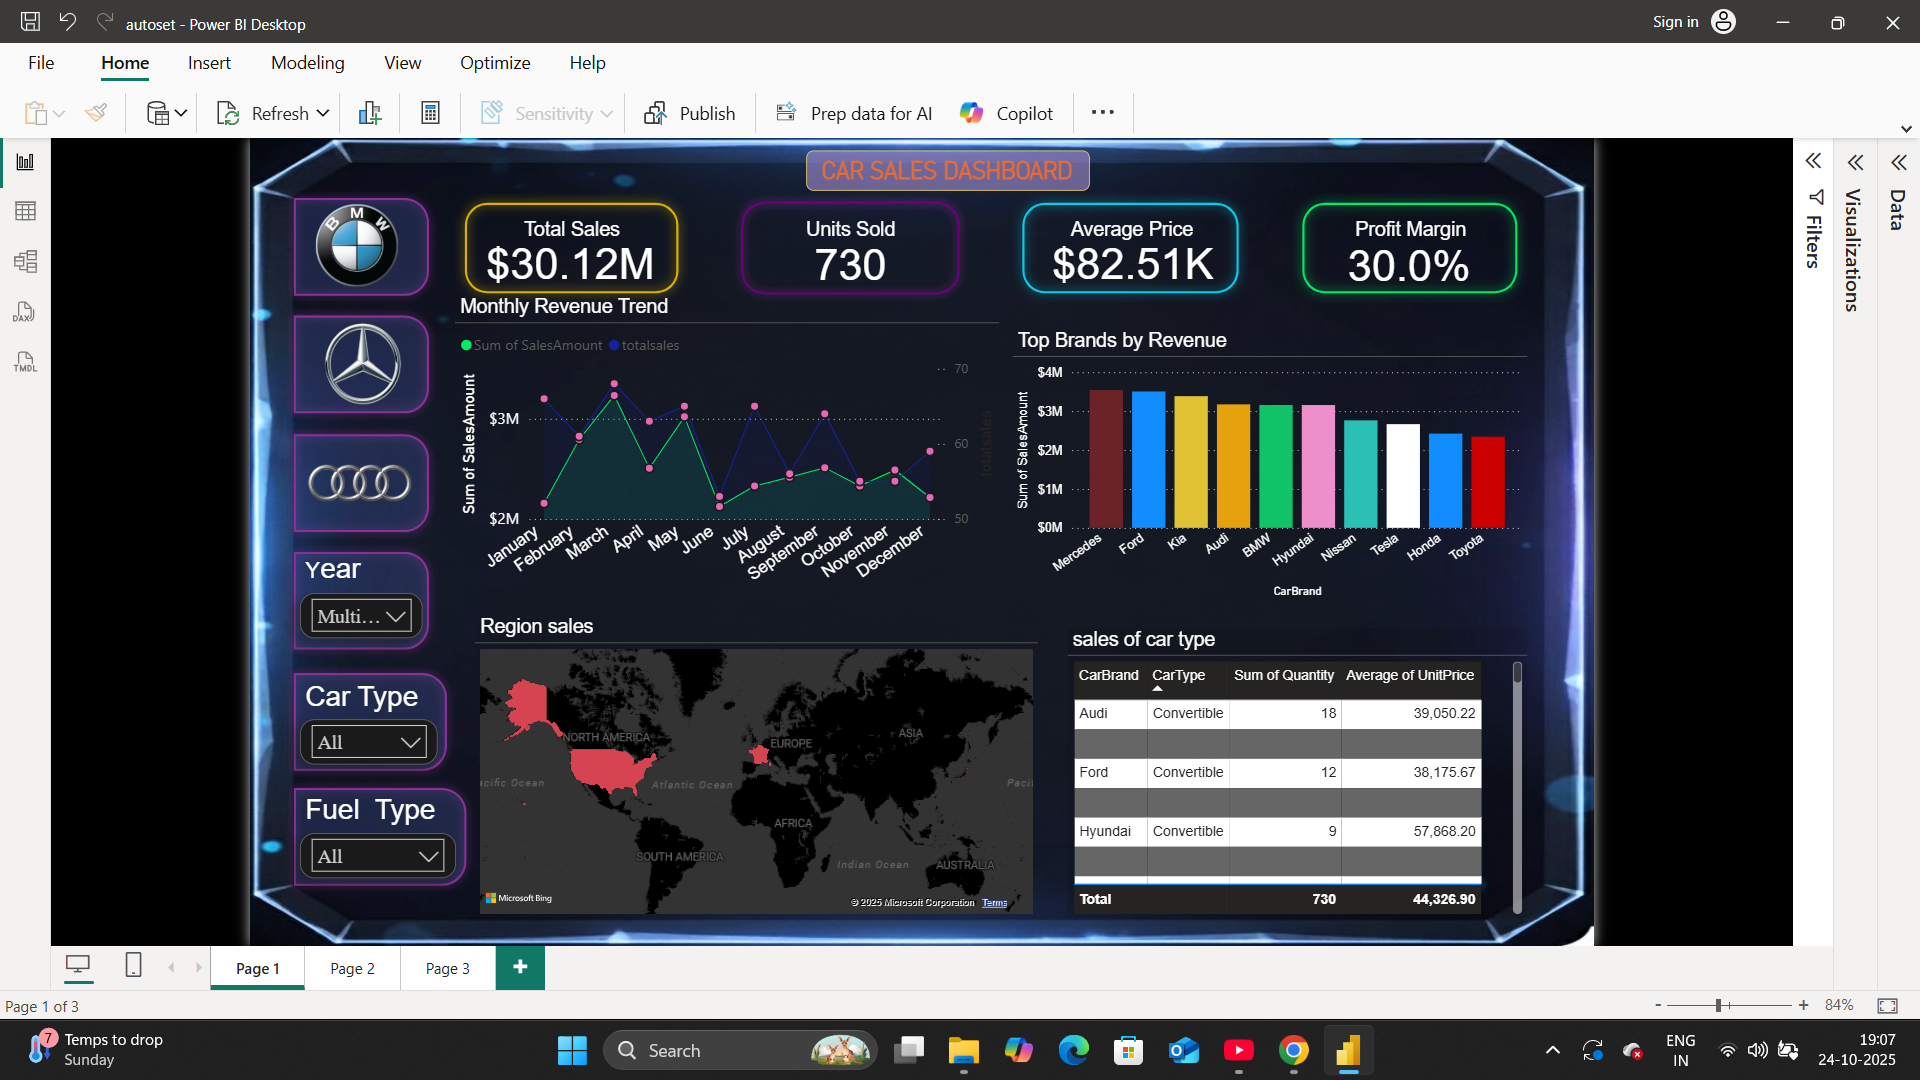

What the dashboard file says about the page in this screenshot:
{"tool":"powerbi","page":{"name":"Page 1","canvas":[1281,771],"ordinal":0},"visuals":[{"type":"shape","box":[32.9,611.4,181.4,110],"z":0},{"type":"actionButton","box":[459.6,52.5,225,105],"z":1000},{"type":"actionButton","box":[993.8,52.5,223.8,105],"z":2000},{"type":"actionButton","box":[195,52.5,222.5,105],"z":3000},{"type":"actionButton","box":[726.7,52.5,225,105],"z":4000},{"type":"textbox","box":[151.2,73.8,311.2,31.2],"z":5000},{"type":"textbox","box":[417.5,73.8,311.2,31.2],"z":6000},{"type":"textbox","box":[685,73.8,311.2,31.2],"z":7000},{"type":"textbox","box":[951.2,73.8,311.2,31.2],"z":8000},{"type":"card","fields":{"Values":["Sum(Sheet1.SalesAmount)"]},"box":[213.8,90,185,53.8],"z":9000},{"type":"card","fields":{"Values":["Sum(Sheet1.Quantity)"]},"box":[480,91.2,185,53.8],"z":10000},{"type":"card","fields":{"Values":["Avg(Sheet1.SalesAmount)"]},"box":[746.2,90,185,53.8],"z":11000},{"type":"card","fields":{"Values":["Sheet1.profit margin"]},"box":[1013.8,92.5,185,53.8],"z":12000},{"type":"lineChart","title":"Monthly Revenue Trend","fields":{"Category":["Sheet1.OrderDate.Variation.Date Hierarchy.Month"],"Y":["Sum(Sheet1.SalesAmount)"],"Y2":["Sheet1.totalsales"]},"box":[195,182.5,520,306.2],"z":13000},{"type":"clusteredColumnChart","title":"Top Brands by Revenue","fields":{"Y":["Sum(Sheet1.SalesAmount)"],"Category":["Sheet1.CarBrand"]},"box":[727.1,182.9,491.4,260],"z":14000},{"type":"tableEx","title":"sales of car type","fields":{"Values":["Sheet1.CarBrand","Sheet1.CarType","Sum(Sheet1.Quantity)","Avg(Sheet1.UnitPrice)"]},"box":[780,467.1,438.6,277.1],"z":15000},{"type":"filledMap","title":"Region sales ","fields":{"Category":["Sheet1.Region","Sheet1.SalesAmount","Sheet1.Quantity"]},"box":[214.3,455.7,537.1,288.6],"z":16000},{"type":"shape","box":[32.9,48.6,145.7,110],"z":17000},{"type":"shape","box":[32.9,273.7,145.7,110],"z":18000},{"type":"shape","box":[32.9,161.1,145.7,110],"z":19000},{"type":"shape","box":[32.9,385.7,145.7,110],"z":20000},{"type":"shape","box":[32.9,501.4,162.9,110],"z":21000},{"type":"slicer","fields":{"Values":["Sheet1.Year"]},"box":[47.1,434.3,117.1,42.9],"z":22000},{"type":"textbox","box":[47.1,391.4,85.7,51.4],"z":23000},{"type":"textbox","box":[47.1,512.9,131.4,51.4],"z":24000},{"type":"textbox","box":[47.1,621,148.6,51.4],"z":25000},{"type":"slicer","fields":{"Values":["Sheet1.CarType"]},"box":[47.1,554,131.4,42.9],"z":26000},{"type":"slicer","fields":{"Values":["Sheet1.FuelType"]},"box":[47.1,663,148.6,42.9],"z":27000},{"type":"image","box":[52.9,59,98.6,88.6],"z":28000},{"type":"image","box":[47.1,171.4,117.1,88.6],"z":29000},{"type":"image","box":[41.4,285.7,127.1,85.7],"z":30000},{"type":"textbox","box":[531,11.6,270,38],"z":31000}]}

Visuals, with their boxes on the page's 1281x771 design canvas (x1, y1, x2, y2). These are canvas units, not pixel positions in the 1920x1080 screenshot, which may show the page scaled, cropped or inside an application window:
shape: box=[33, 611, 214, 721]
actionButton: box=[460, 52, 685, 158]
actionButton: box=[994, 52, 1218, 158]
actionButton: box=[195, 52, 418, 158]
actionButton: box=[727, 52, 952, 158]
textbox: box=[151, 74, 462, 105]
textbox: box=[418, 74, 729, 105]
textbox: box=[685, 74, 996, 105]
textbox: box=[951, 74, 1262, 105]
card - Sum(Sheet1.SalesAmount): box=[214, 90, 399, 144]
card - Sum(Sheet1.Quantity): box=[480, 91, 665, 145]
card - Avg(Sheet1.SalesAmount): box=[746, 90, 931, 144]
card - Sheet1.profit margin: box=[1014, 92, 1199, 146]
"Monthly Revenue Trend" lineChart: box=[195, 182, 715, 489]
"Top Brands by Revenue" clusteredColumnChart: box=[727, 183, 1218, 443]
"sales of car type" tableEx: box=[780, 467, 1219, 744]
"Region sales " filledMap: box=[214, 456, 751, 744]
shape: box=[33, 49, 179, 159]
shape: box=[33, 274, 179, 384]
shape: box=[33, 161, 179, 271]
shape: box=[33, 386, 179, 496]
shape: box=[33, 501, 196, 611]
slicer - Sheet1.Year: box=[47, 434, 164, 477]
textbox: box=[47, 391, 133, 443]
textbox: box=[47, 513, 178, 564]
textbox: box=[47, 621, 196, 672]
slicer - Sheet1.CarType: box=[47, 554, 178, 597]
slicer - Sheet1.FuelType: box=[47, 663, 196, 706]
image: box=[53, 59, 152, 148]
image: box=[47, 171, 164, 260]
image: box=[41, 286, 168, 371]
textbox: box=[531, 12, 801, 50]
